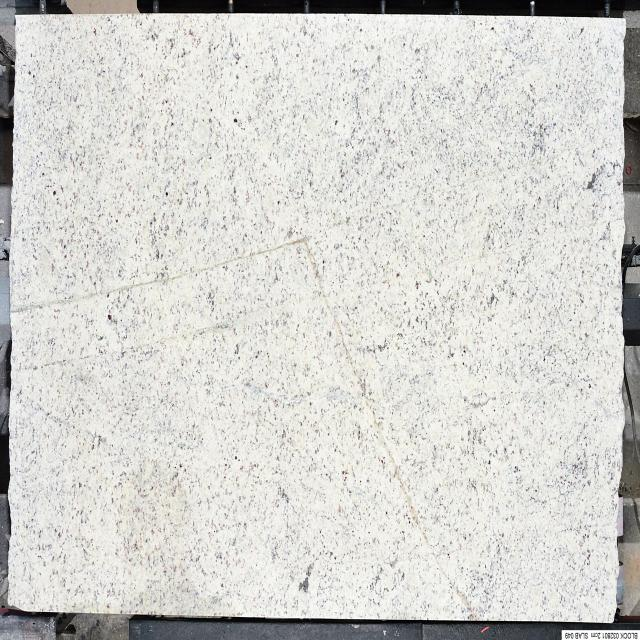chapa: (10, 14, 625, 621)
